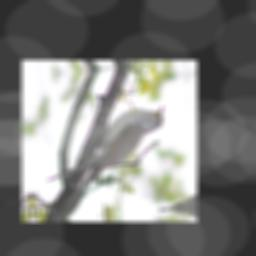Cuckoo: (40, 105, 169, 188)
